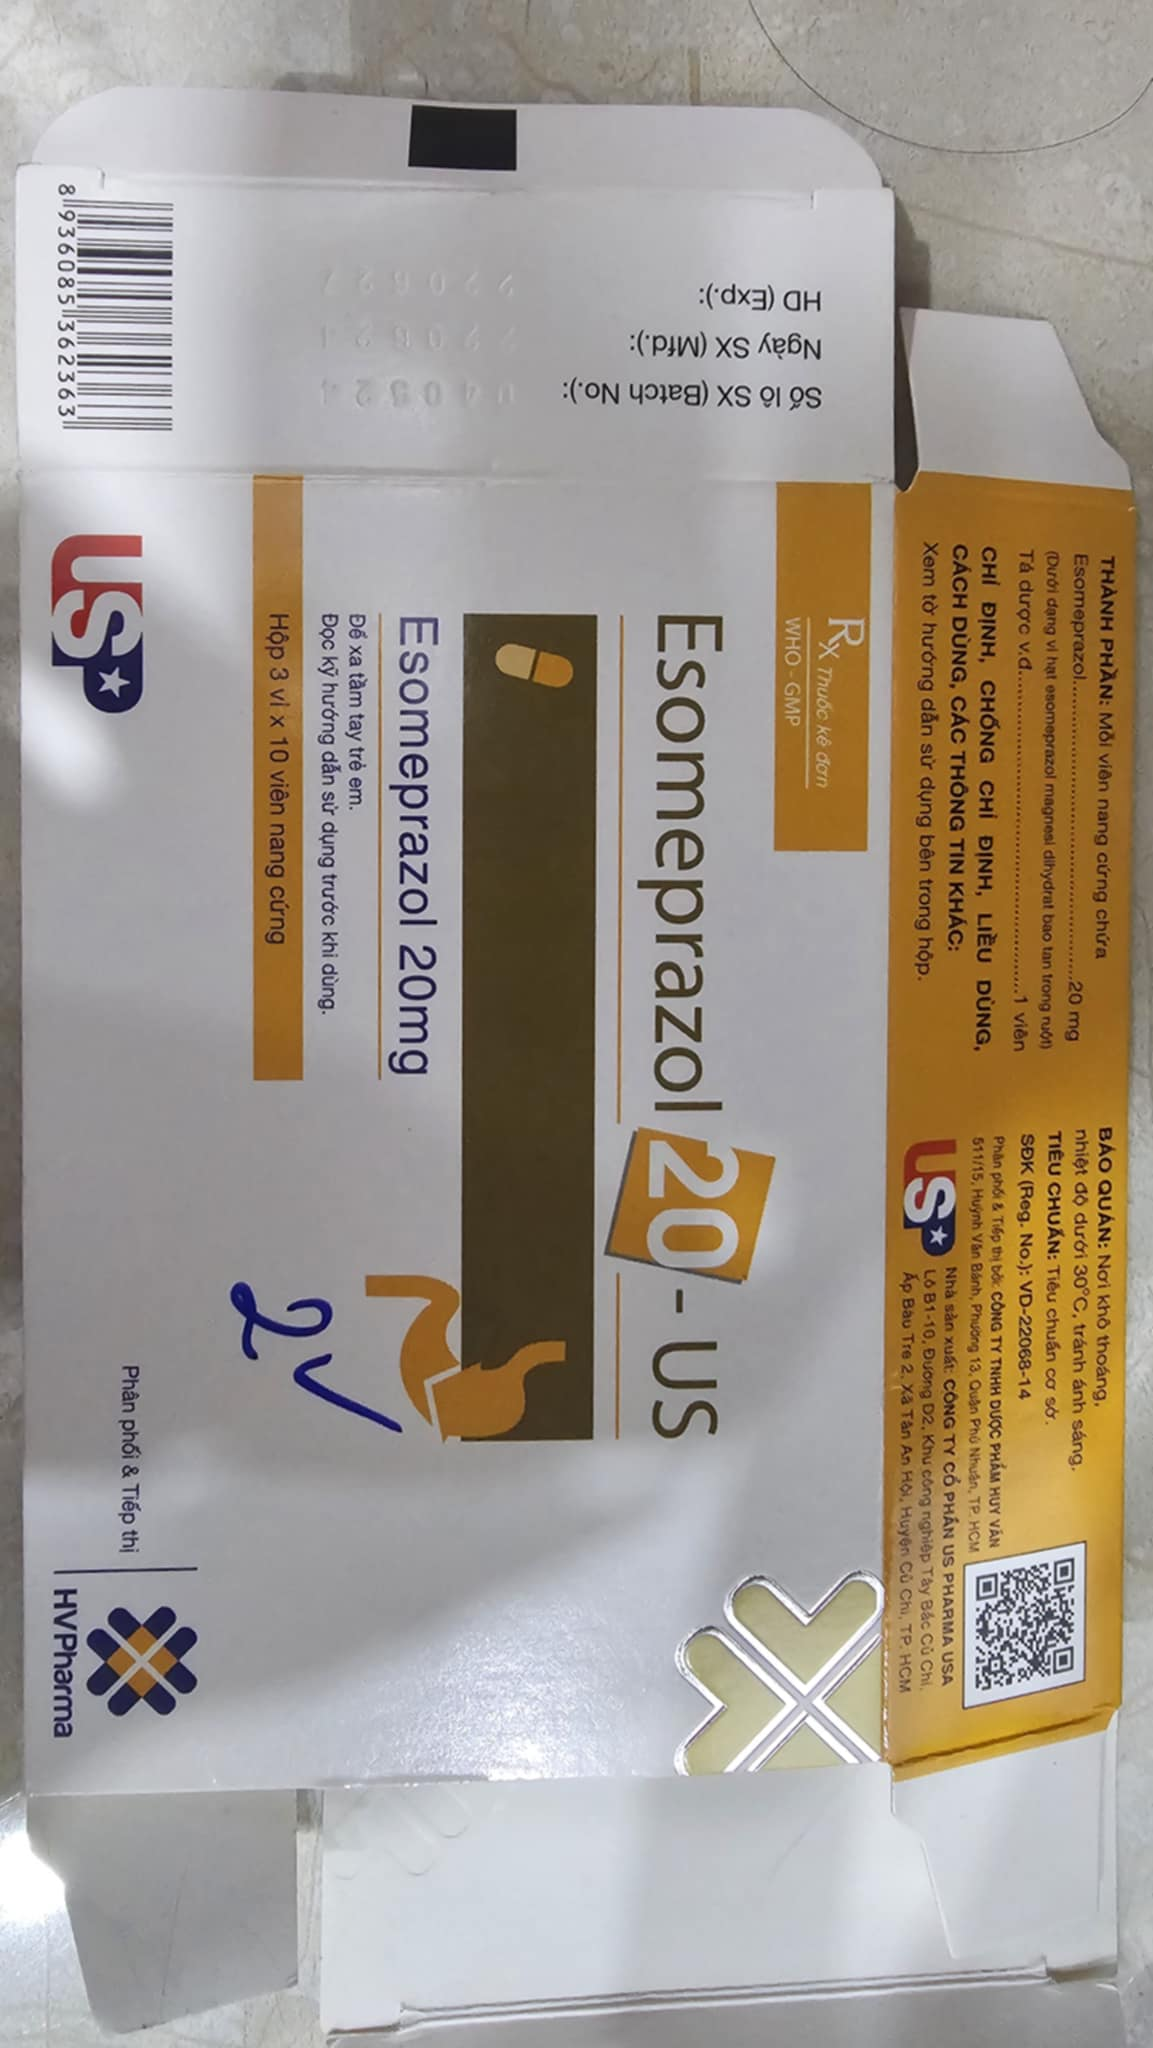Esomeprazol: (638, 603, 735, 1121)
